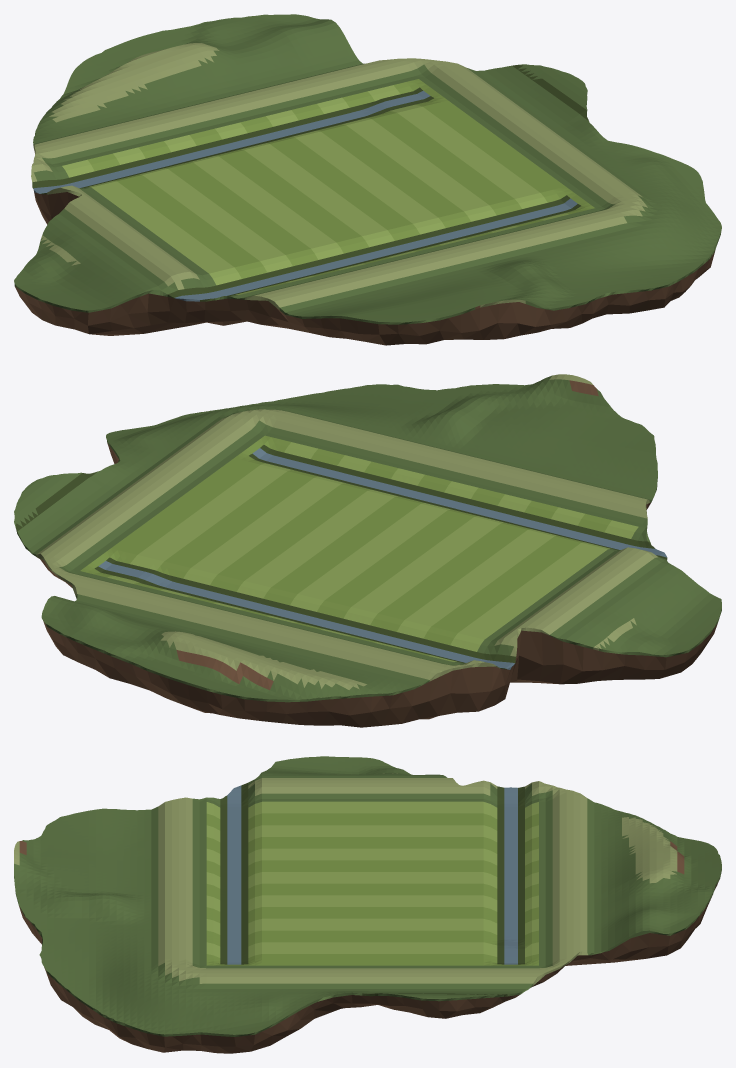
Rendered from airport-terrain-0871f3.glb.
The picture shows the model from 3 angles, top to bottom: view 1: azimuth 30°, elevation 25°; view 2: azimuth 150°, elevation 25°; view 3: azimuth 270°, elevation 25°; orthographic projection. The views are drawn at different scales.
Parts seen in each view (by area): view 1: airfield-ground; view 2: airfield-ground; view 3: airfield-ground.
Boxes of the visible parts, x1=… form: airfield-ground: x1=14, y1=14, x2=721, y2=345; airfield-ground: x1=14, y1=374, x2=721, y2=727; airfield-ground: x1=14, y1=756, x2=721, y2=1053.
Bounding box in the file's own units: 97.16 × 16.9 × 102.
